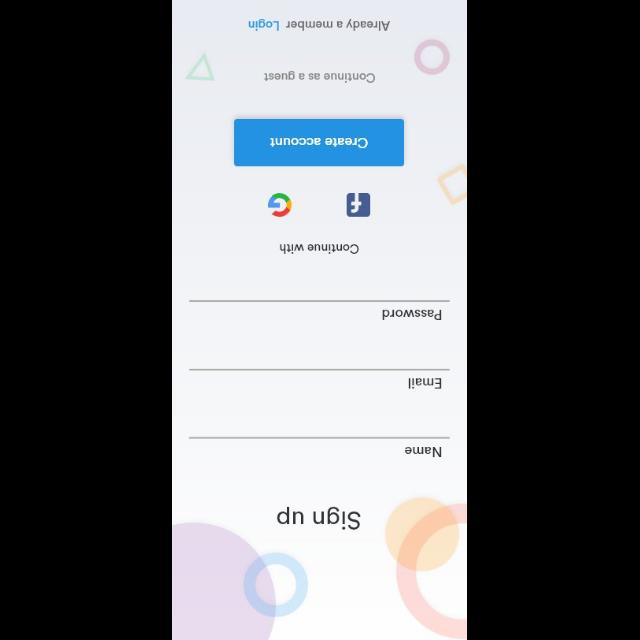backgroundimage: (173, 1, 467, 640)
icon: (268, 192, 292, 218), (347, 193, 371, 217)
input: (189, 437, 449, 458), (190, 368, 450, 389), (190, 300, 450, 320)
text: (276, 506, 362, 530), (248, 18, 390, 32), (264, 70, 376, 84), (278, 243, 359, 254), (382, 308, 442, 320), (404, 447, 442, 458), (408, 378, 442, 388)
textbutton: (233, 119, 404, 167)
